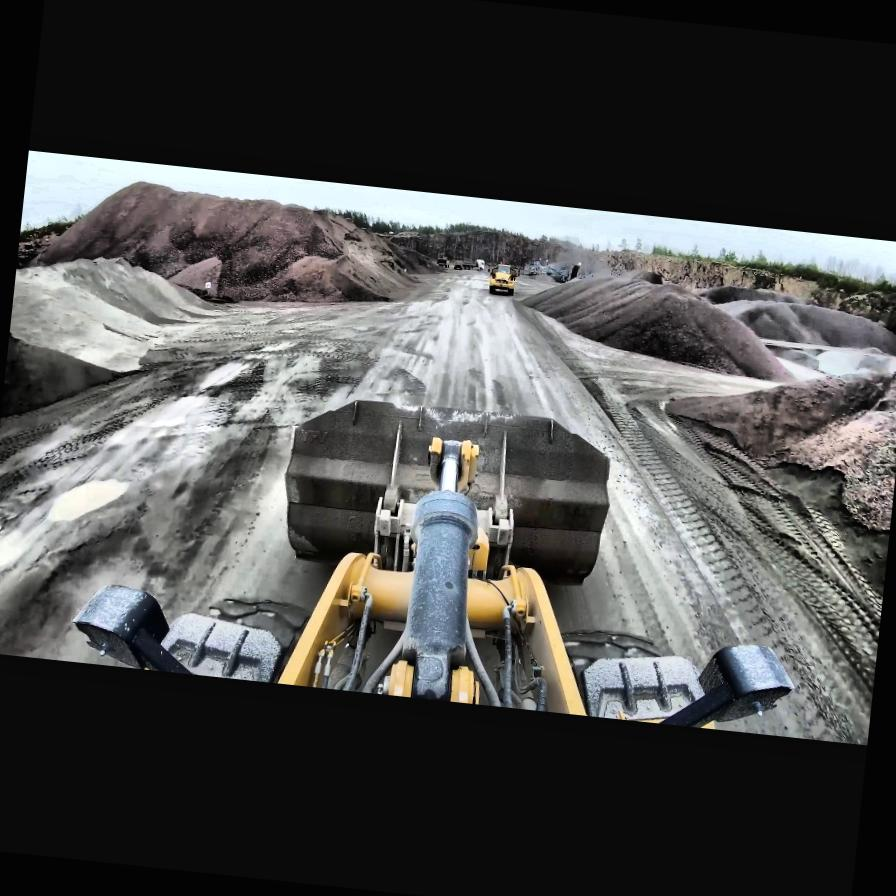anchor: (426, 435, 480, 494)
pile of gravel: (639, 328, 896, 625), (15, 170, 426, 326), (1, 248, 233, 440), (550, 268, 788, 385), (689, 286, 896, 362), (54, 250, 227, 330), (697, 282, 810, 314)
